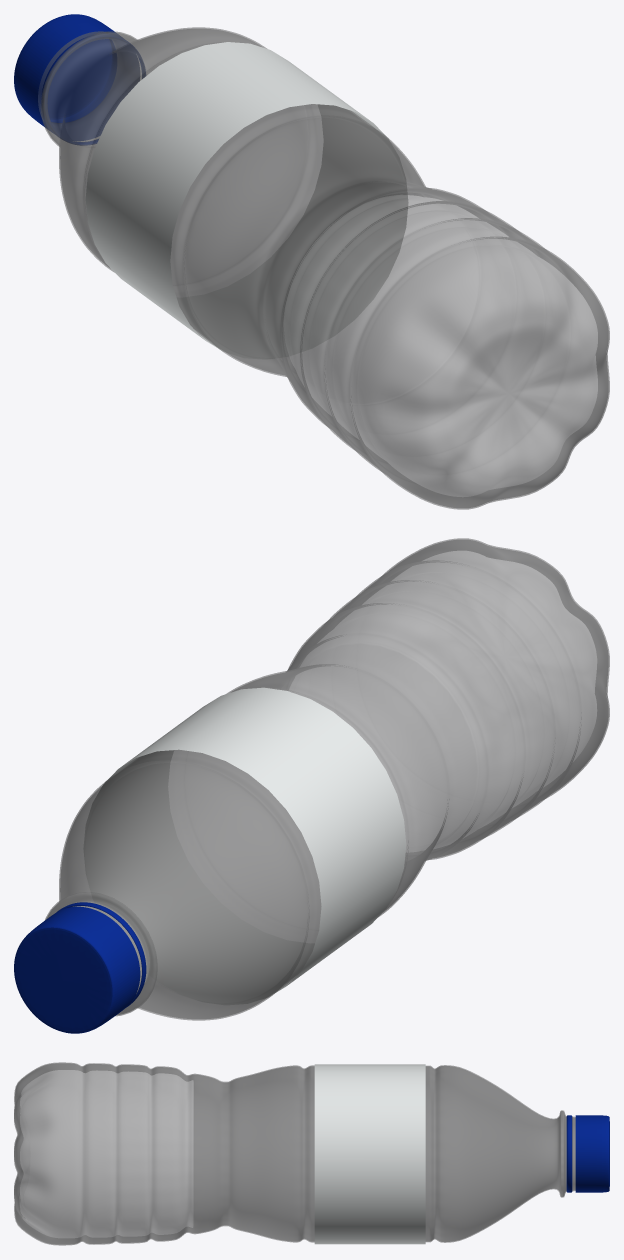
File: botellaTres.glb
3 renders of one model, top to bottom at view 1: azimuth 30°, elevation 25°; view 2: azimuth 150°, elevation 25°; view 3: azimuth 270°, elevation 25°, orthographic. The views are drawn at different scales.
Visible parts, largest first — view 1: bottle_0, water_inside_4, label_3, cap_1, cap2_2; view 2: bottle_0, water_inside_4, label_3, cap_1, cap2_2; view 3: bottle_0, water_inside_4, label_3, cap_1, cap2_2.
Part boxes in pixels (box(x1,y1,x2,y2)): bottle_0: box(38, 27, 609, 509); water_inside_4: box(284, 195, 597, 496); label_3: box(85, 42, 408, 358); cap_1: box(14, 14, 139, 140); cap2_2: box(41, 34, 145, 144); bottle_0: box(45, 538, 609, 1020); water_inside_4: box(290, 551, 596, 851); label_3: box(84, 687, 406, 1004); cap_1: box(14, 906, 140, 1033); cap2_2: box(57, 902, 146, 1007); bottle_0: box(14, 1062, 575, 1245); water_inside_4: box(20, 1070, 192, 1237); label_3: box(314, 1064, 425, 1244); cap_1: box(575, 1115, 609, 1192); cap2_2: box(566, 1115, 572, 1192).
Bounding box in the file's own units: 0.6427 × 0.6427 × 2.09.
